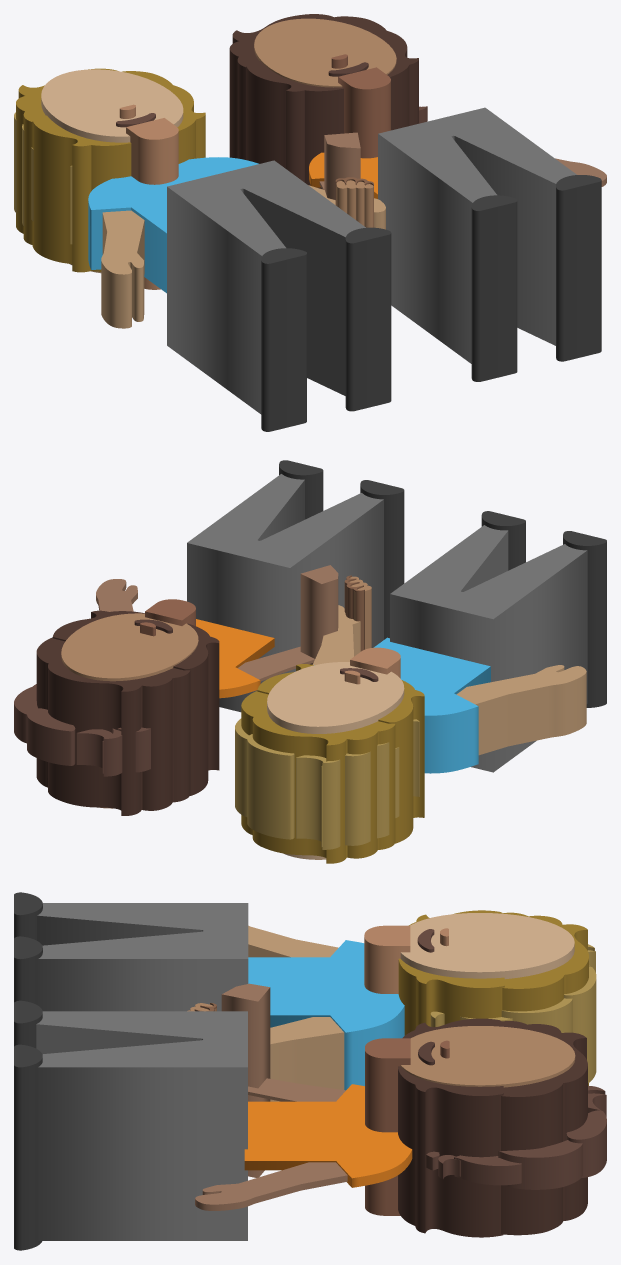
File: emoji_u1f9d1_1f3fc_200d_1f91d_200d_1f9d1_1f3fd.glb
The picture shows the model from 3 angles, top to bottom: view 1: azimuth 30°, elevation 25°; view 2: azimuth 150°, elevation 25°; view 3: azimuth 270°, elevation 25°; orthographic projection. The views are drawn at different scales.
Visible parts, largest first — view 1: emoji_u1f9d1_1f3fc_200d_1f91d_200d_1f9d1_1f3fd; view 2: emoji_u1f9d1_1f3fc_200d_1f91d_200d_1f9d1_1f3fd; view 3: emoji_u1f9d1_1f3fc_200d_1f91d_200d_1f9d1_1f3fd.
Boxes of the visible parts, x1,y1,x2,y2 form: emoji_u1f9d1_1f3fc_200d_1f91d_200d_1f9d1_1f3fd: (14,14,606,431); emoji_u1f9d1_1f3fc_200d_1f91d_200d_1f9d1_1f3fd: (14,460,606,863); emoji_u1f9d1_1f3fc_200d_1f91d_200d_1f9d1_1f3fd: (14,892,606,1250).
Bounding box in the file's own units: 0.0346 × 0.0114 × 0.0335.
